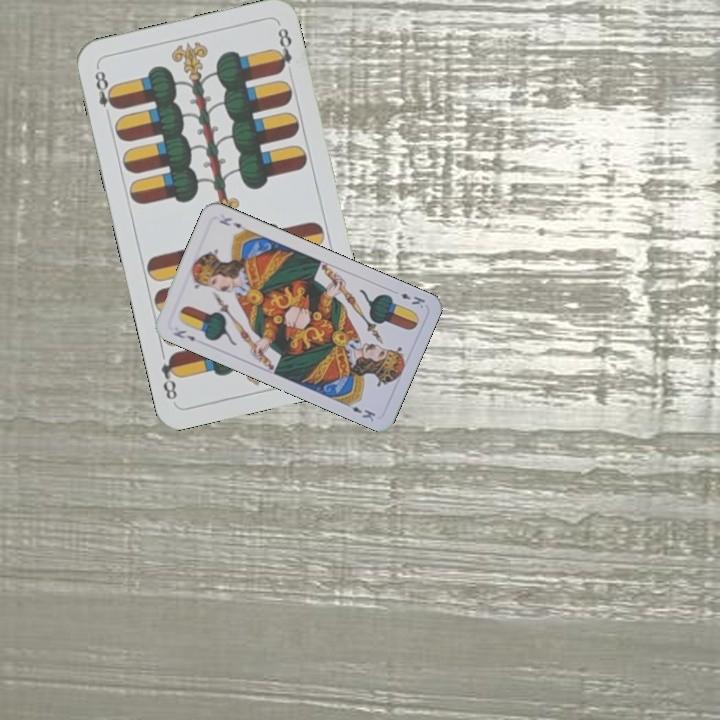E8: (90, 63, 120, 122)
EK: (396, 289, 428, 311), (169, 326, 198, 344)
